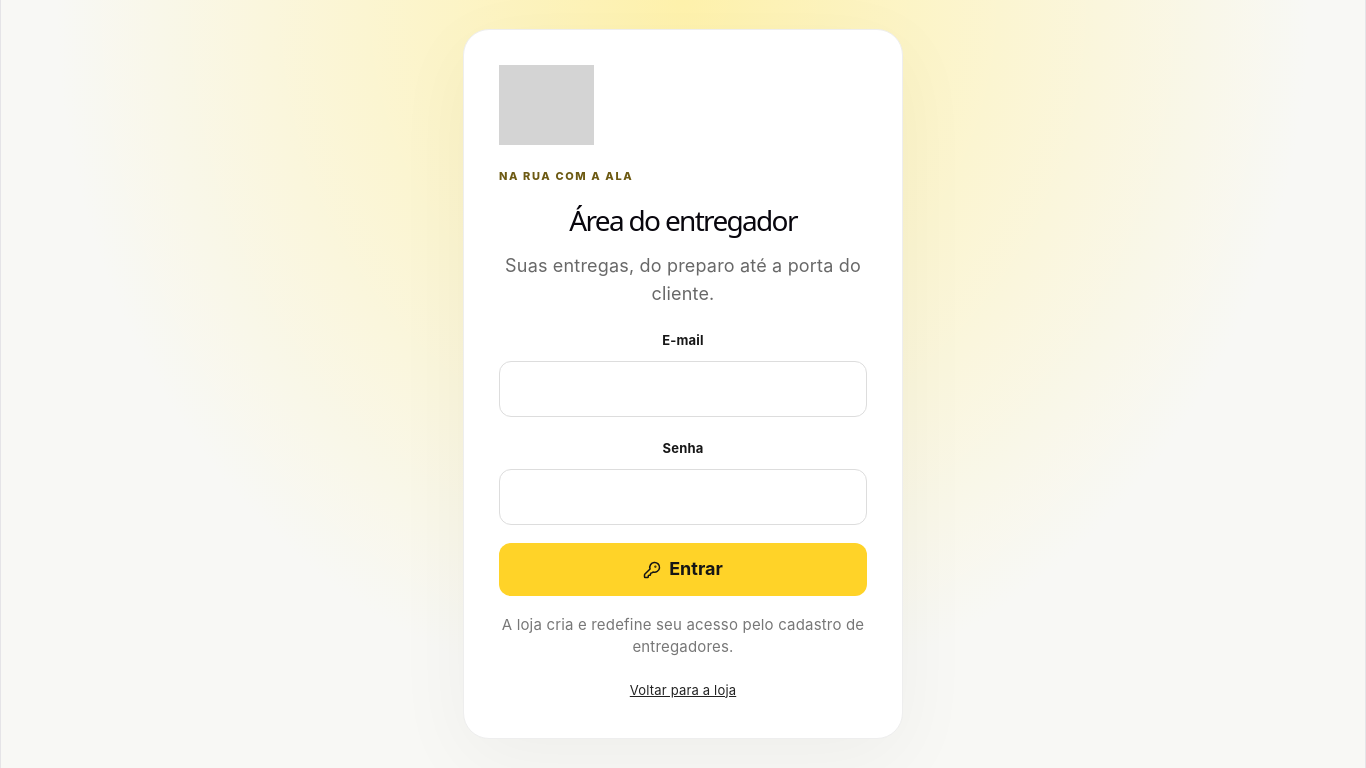
login separado informa falha sem mostrar dados de pedidos
This screenshot has width=1366, height=768.
expect the heading "Área do entregador" is shown: met, box [569,201,797,239]
Type "moto@loja.test" into the field labelled "E-mail".
click(683, 389); type("moto@loja.test")  # box [499,361,867,417]
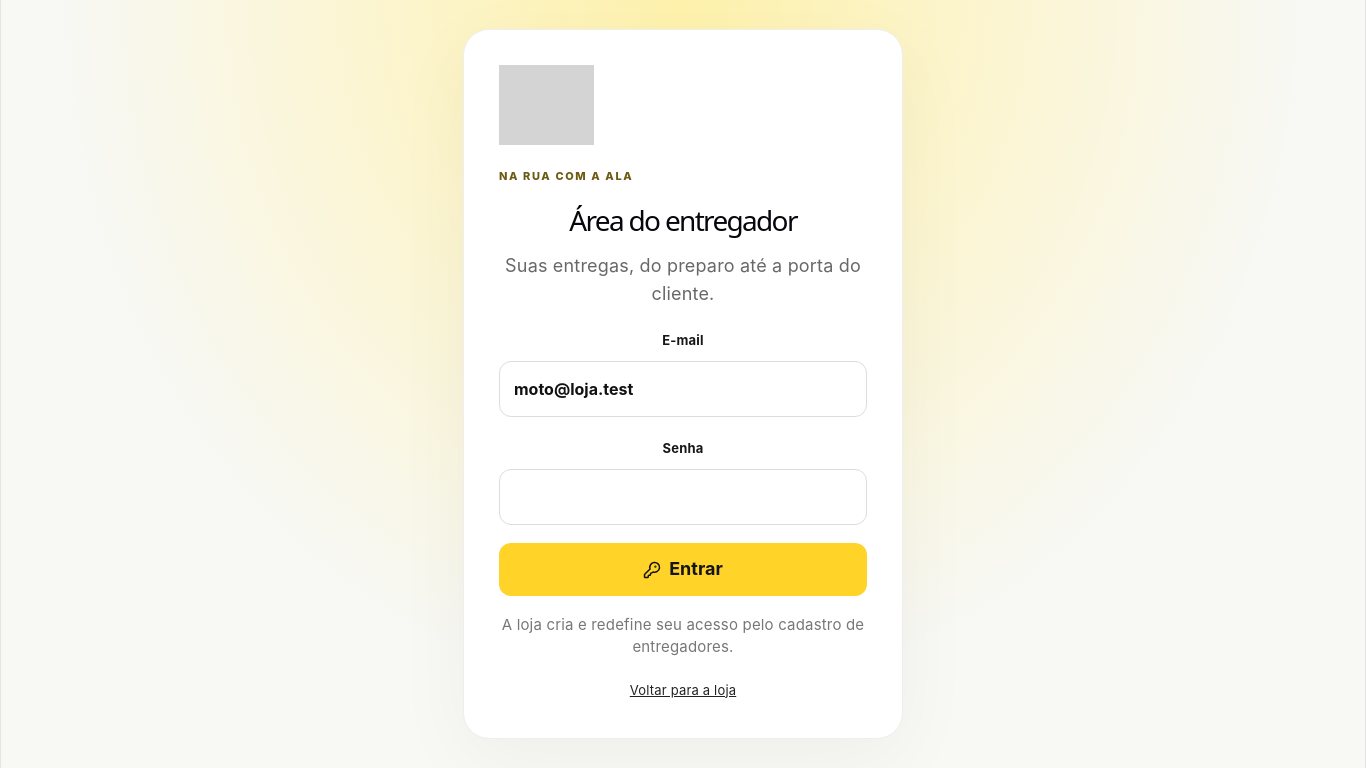
Type "password" into the password field labelled "Senha".
click(683, 497); type("password")  # box [499,469,867,526]
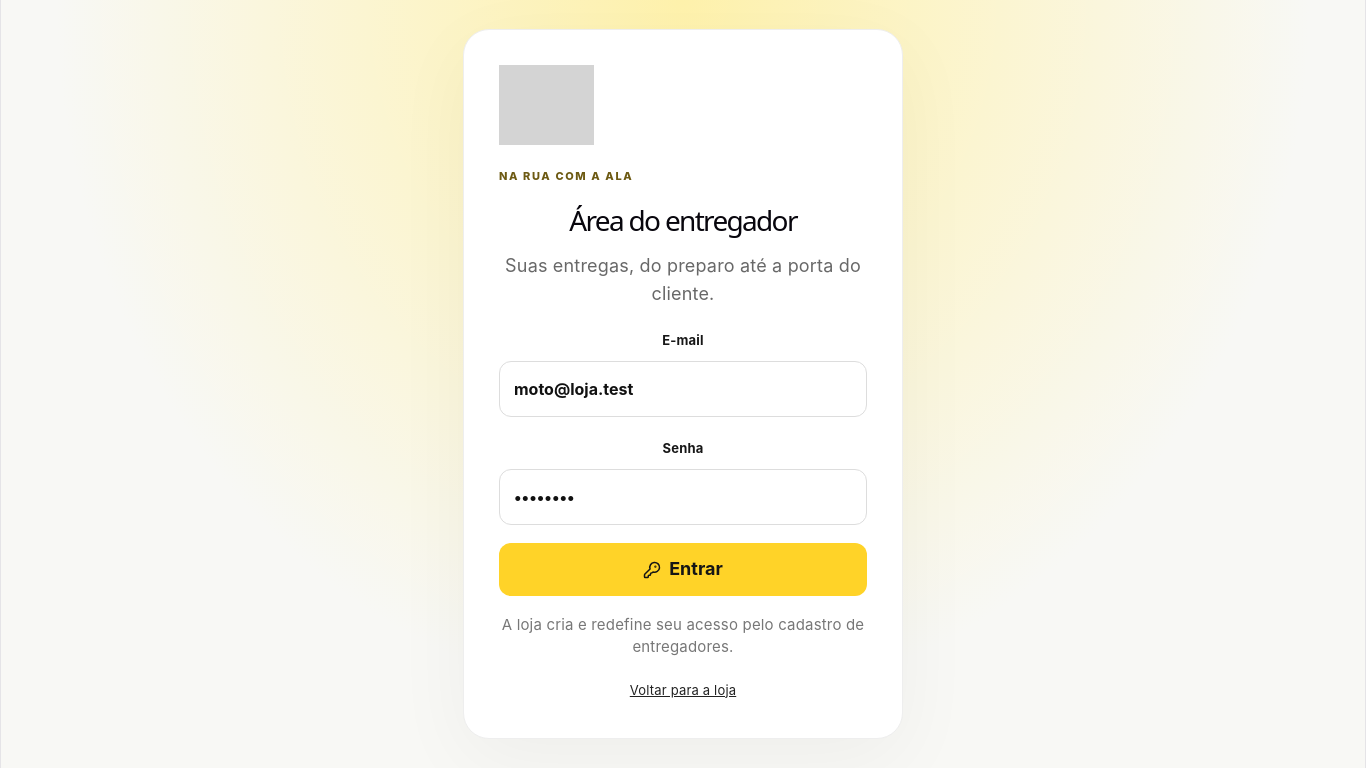
Click the button "Entrar".
click(683, 570)  # box [499,544,867,596]
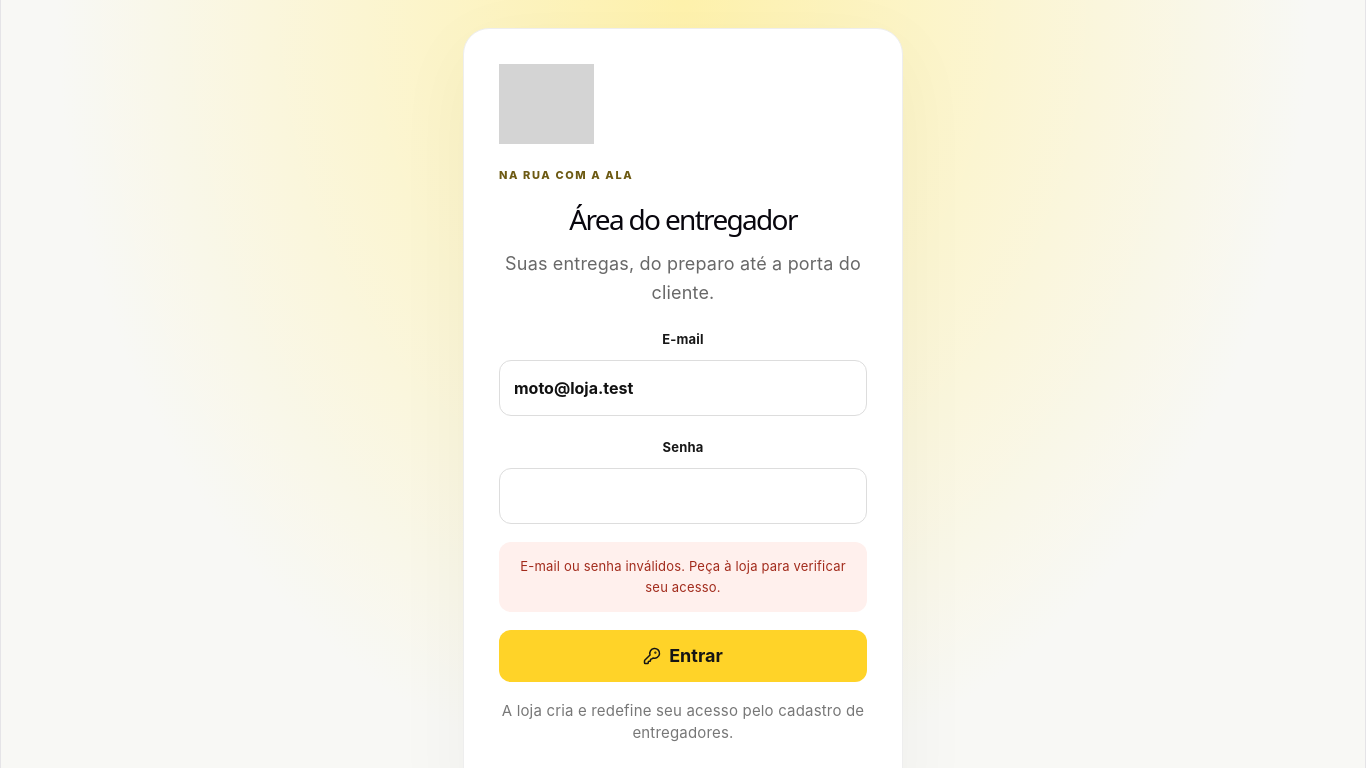
expect the message "E-mail ou senha inválidos. Peça à loja para verificar seu acesso." is shown: met, box [499,542,867,612]
